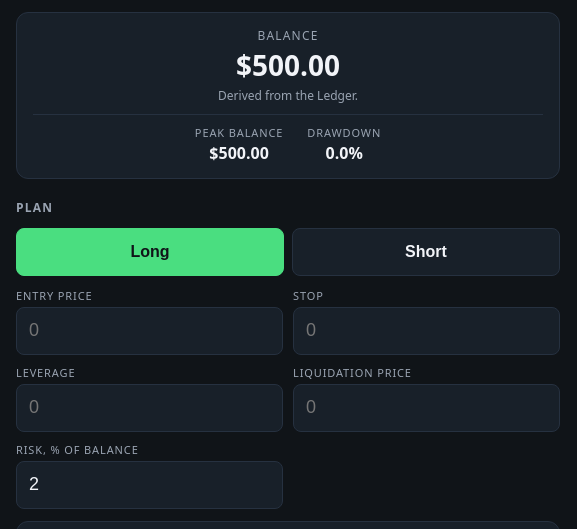
Test: the Risk default › flags a Plan that used more Risk than the default
This screenshot has width=577, height=529.
Step 1. Replace the text in the number field labelled "Risk, % of Balance" with "3" → (150, 485), box [16, 461, 283, 509]
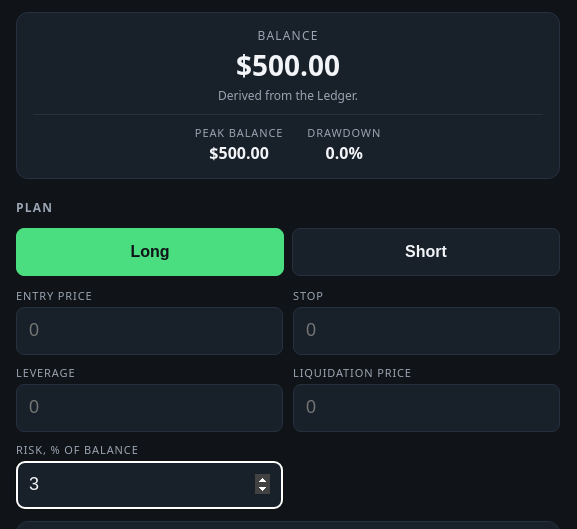
Step 2. Type "100" into the number field labelled "Entry price" → (150, 331), box [16, 307, 283, 355]
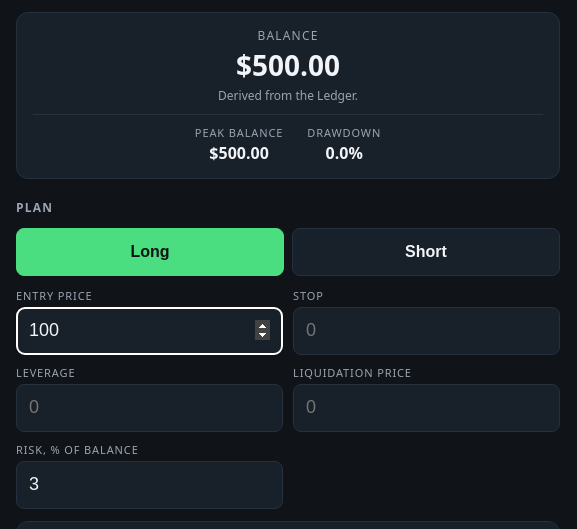
Step 3. Type "96" into the number field labelled "Stop" → (426, 331), box [293, 307, 560, 355]
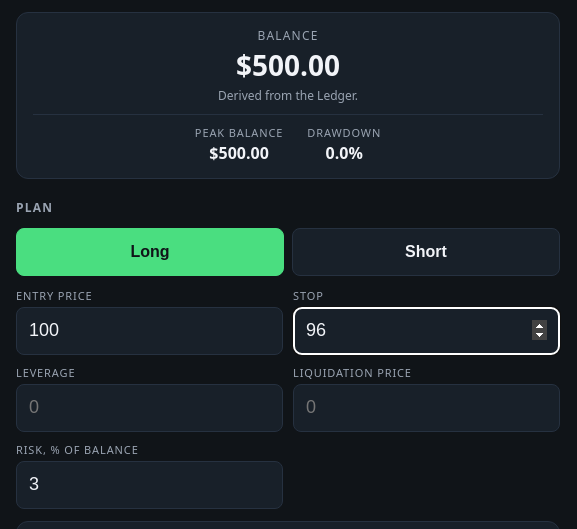
Step 4. Type "5" into the number field labelled "Leverage" → (150, 408), box [16, 384, 283, 432]
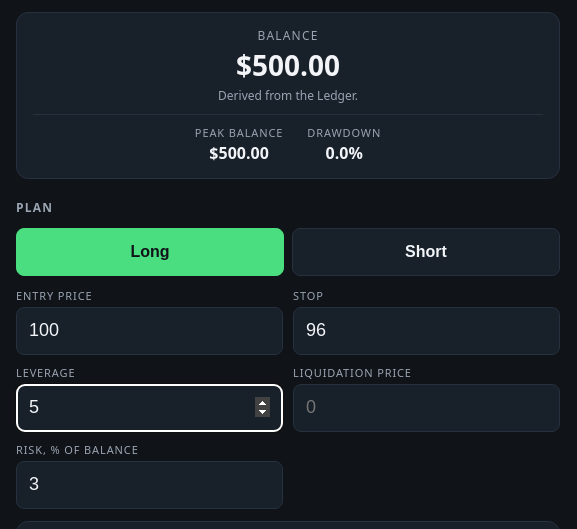
Step 5. Type "80" into the number field labelled "Liquidation price" → (426, 408), box [293, 384, 560, 432]
(page scrolled)
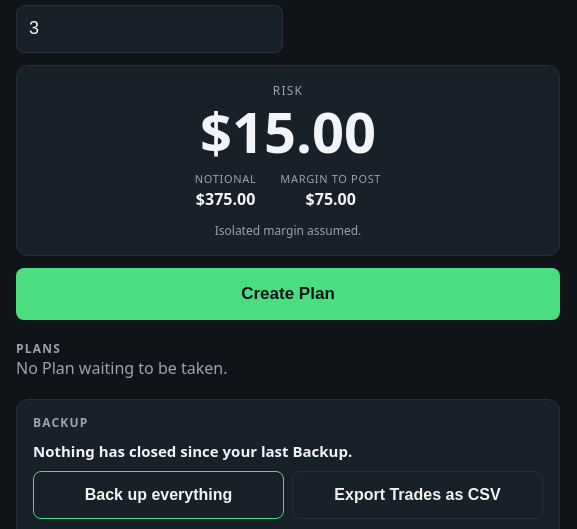
Step 6. Click the button "Create Plan" → (288, 294), box [16, 268, 560, 320]
(page scrolled)
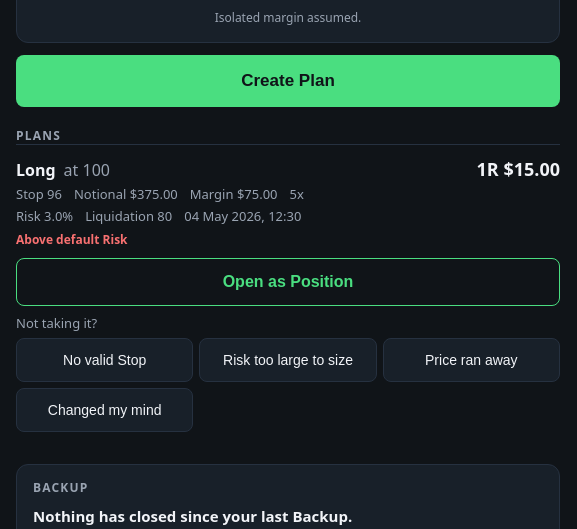
Expected: the list item with aria-label "plan" shows "above default risk", [16, 231, 128, 248]
Expected: the list item with aria-label "plan" shows "$15.00", [503, 157, 560, 181]
